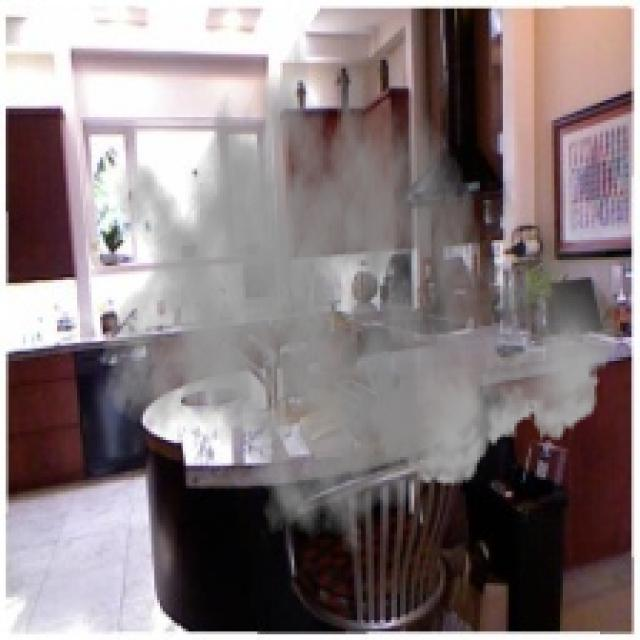smoke: (100, 14, 626, 554)
